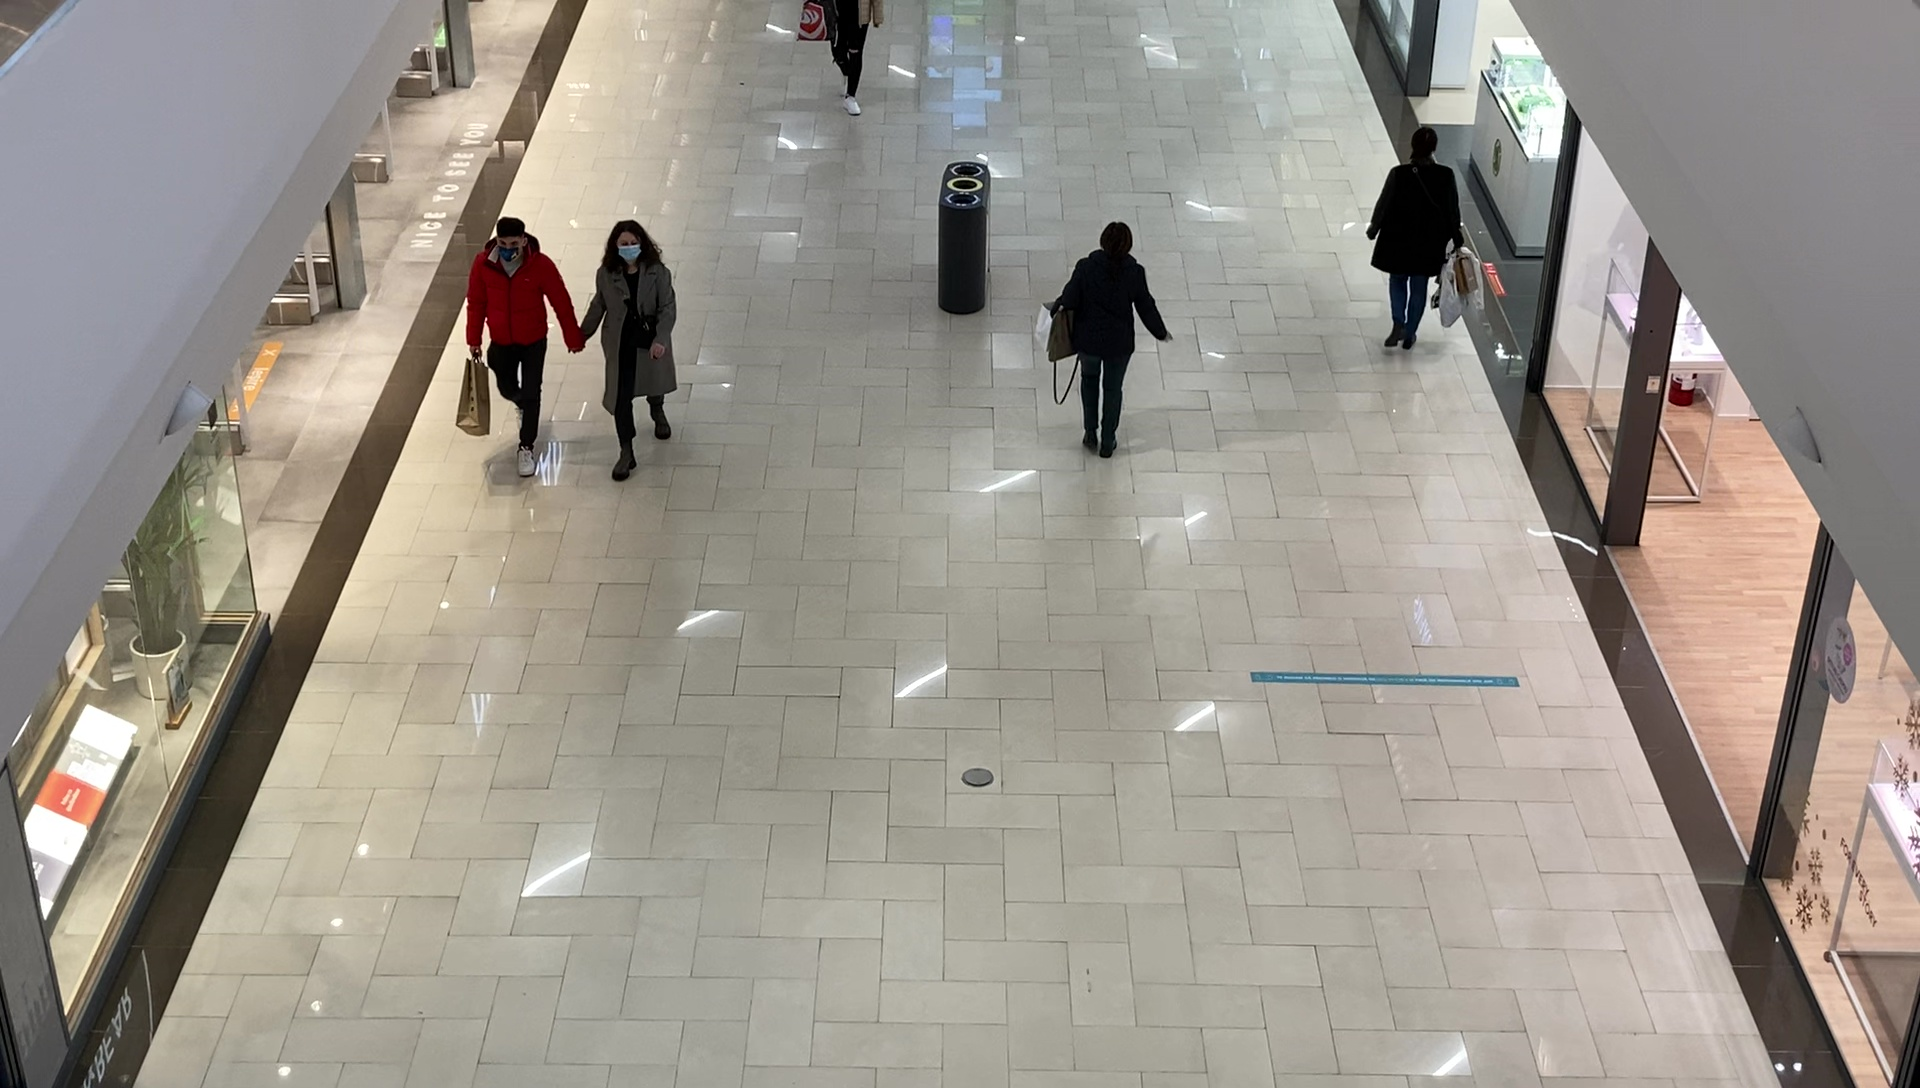person: (466, 217, 582, 476), (1054, 221, 1175, 461), (577, 220, 679, 484), (1365, 127, 1468, 348)
